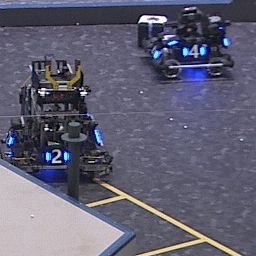Blue: (43, 149, 70, 165), (180, 43, 207, 59), (158, 30, 181, 46)
Robot: (1, 60, 112, 182), (141, 9, 238, 80)
